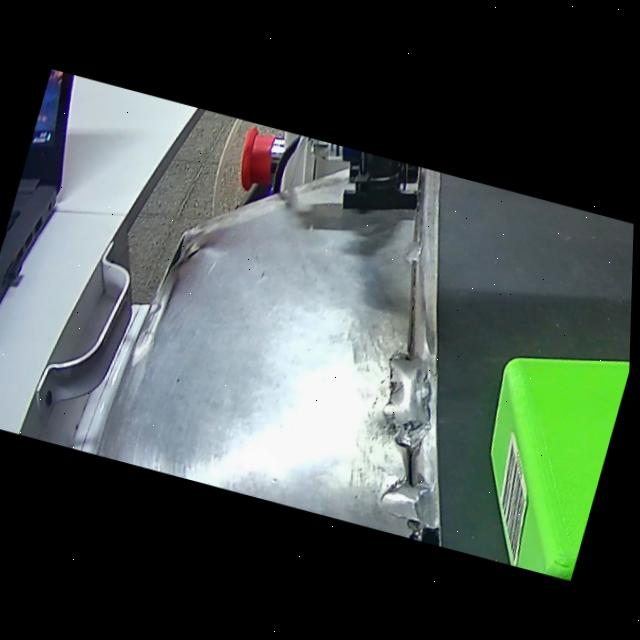greenBox: (450, 309, 633, 578)
